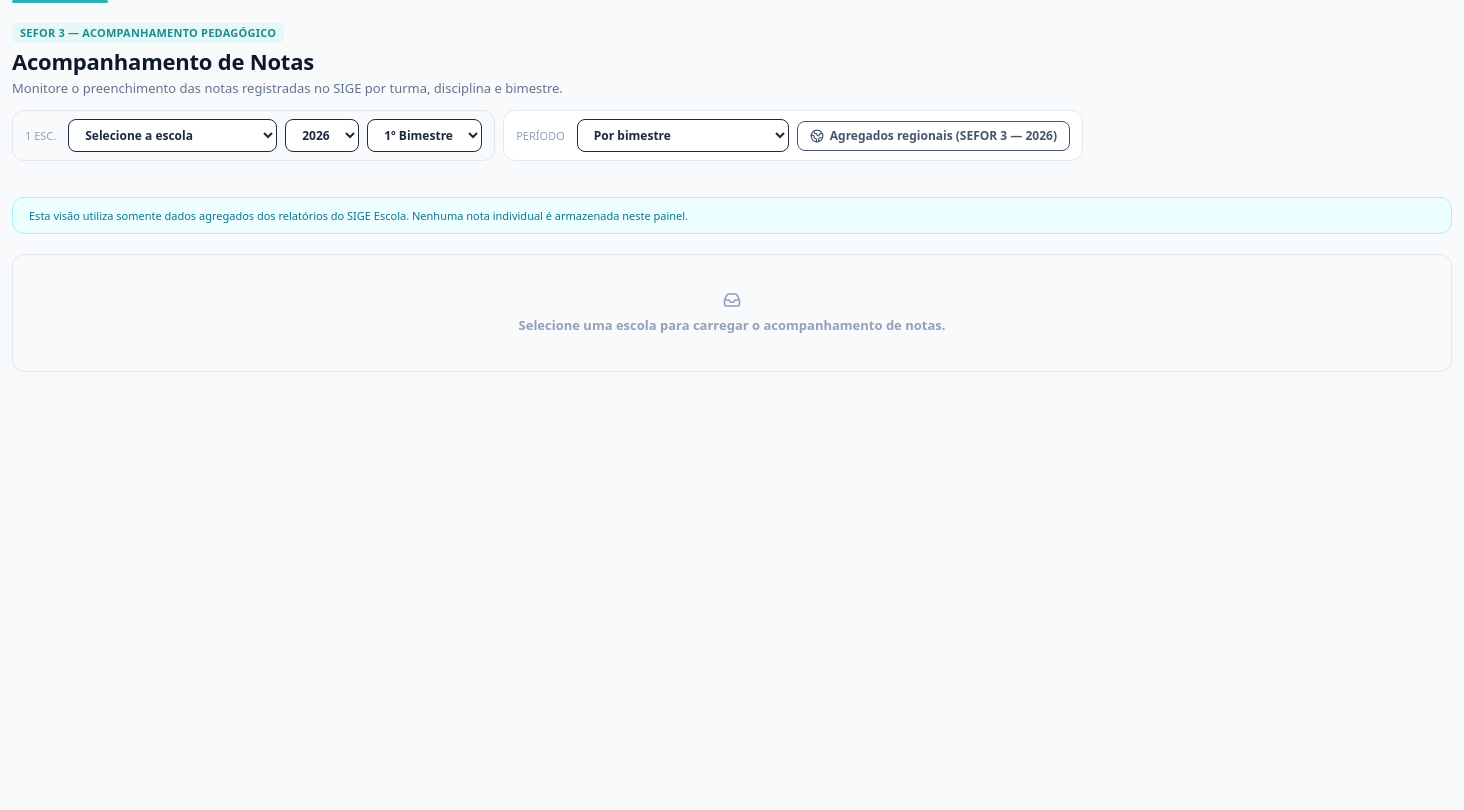
NotasView › escola sem turma cadastrada mostra orientação (nunca cria turma automaticamente)
The image size is (1464, 810).
Step 1. Select "EEMTI Estado do Amazonas" in the dropdown named "Escola" → (173, 136), box [68,119,277,152]
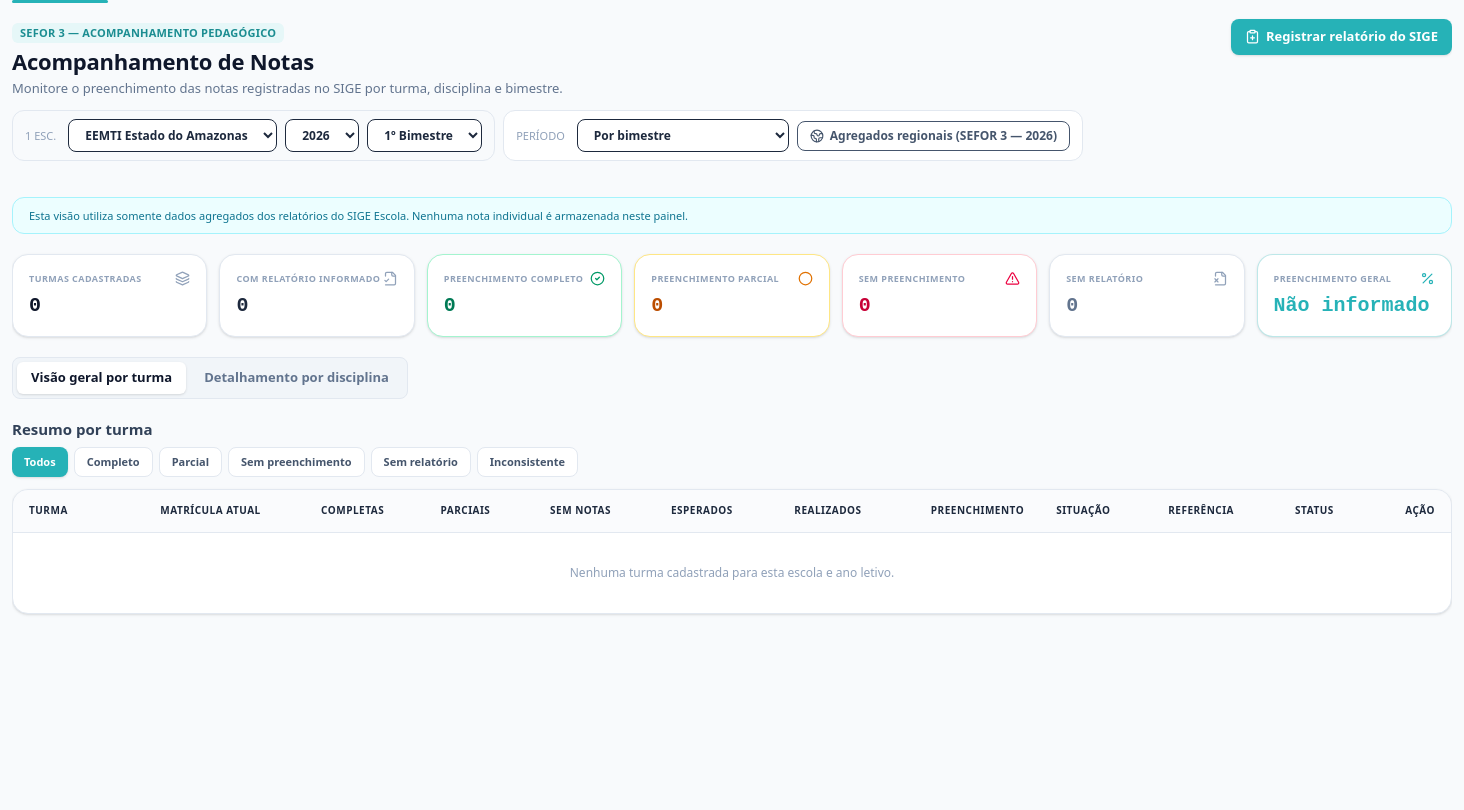
Check: the text "Nenhuma turma cadastrada para esta escola e ano letivo." is shown, box [13,532,1451,613]
